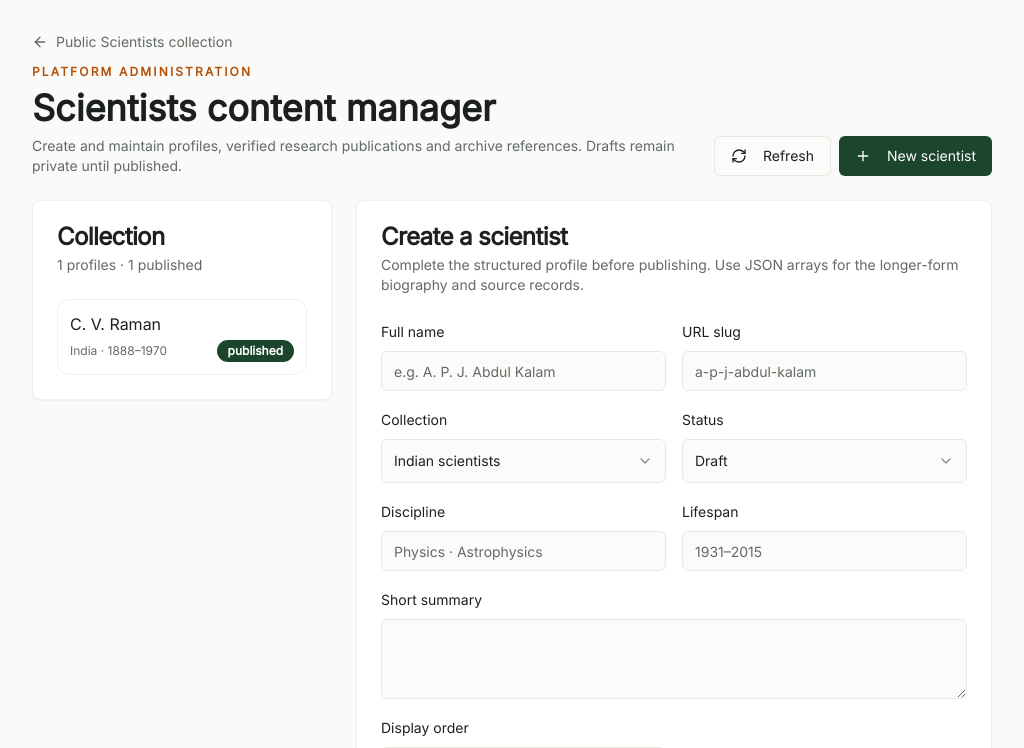
AdminScientists › selects a scientist from the list to populate the editor form
Click the text "C. V. Raman" at [116, 324], box [70,314,161,334]
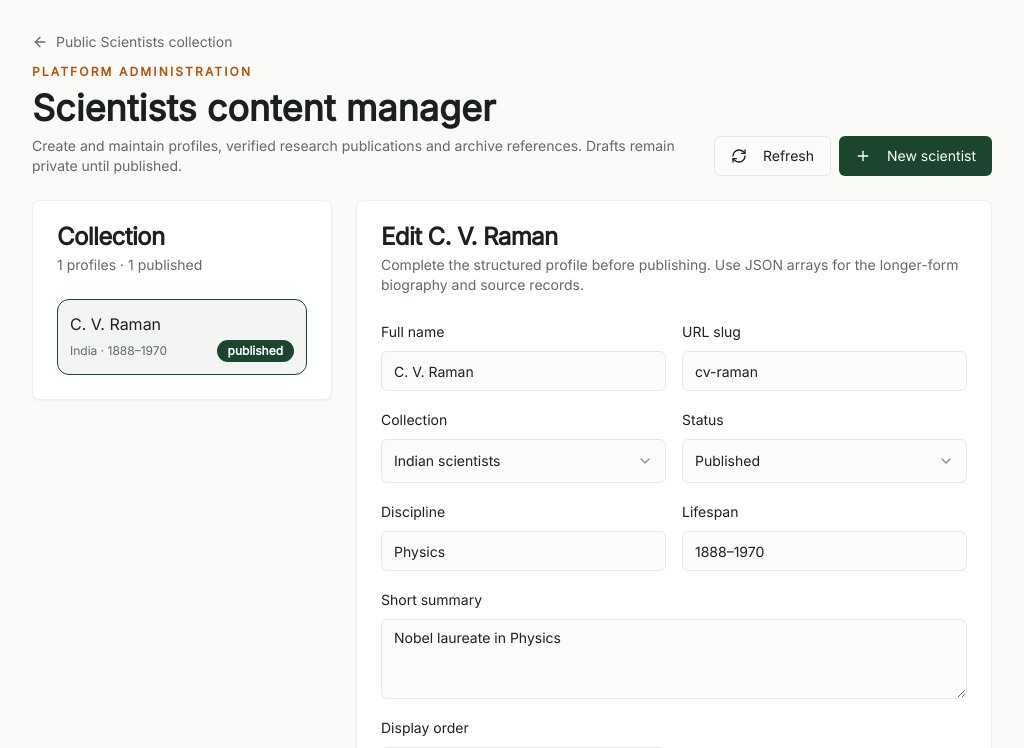
Expected: the field showing "C. V. Raman" is shown, [381,351,666,391]
Expected: the field showing "cv-raman" is shown, [682,351,967,391]
